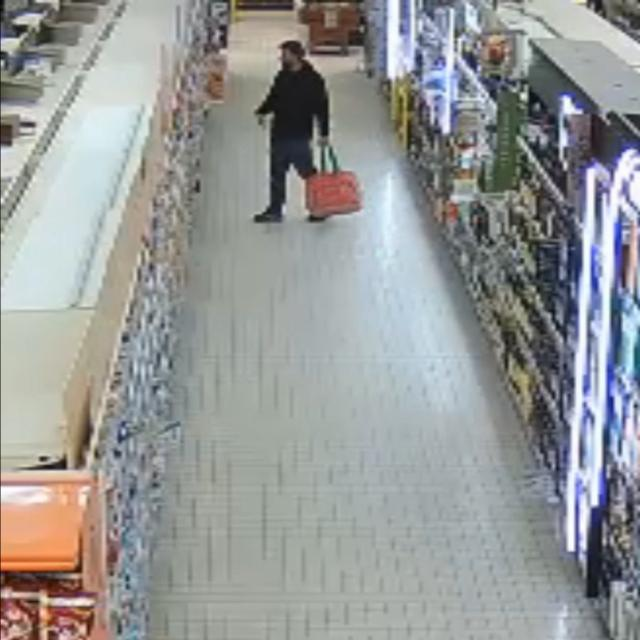bags: (306, 147, 362, 218)
hands: (256, 114, 267, 127), (318, 137, 330, 147)
person: (254, 41, 329, 222)
